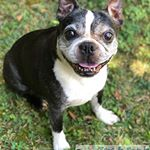puppy: (1, 1, 127, 149)
